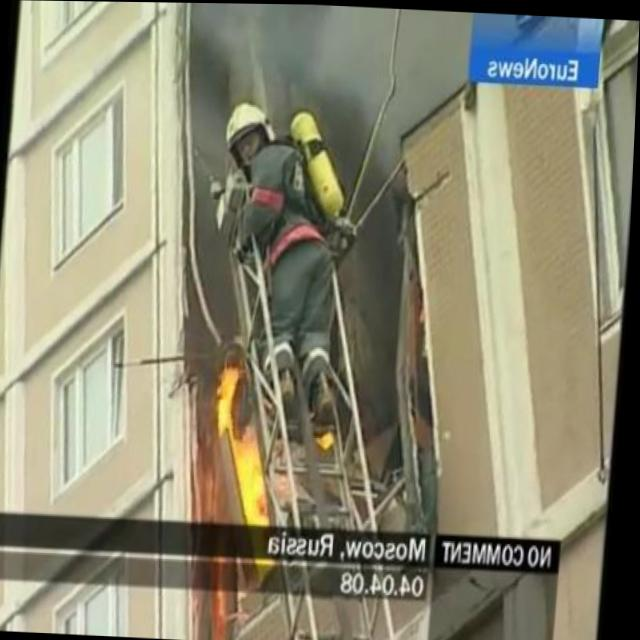fire: (207, 363, 277, 519), (318, 428, 340, 448)
